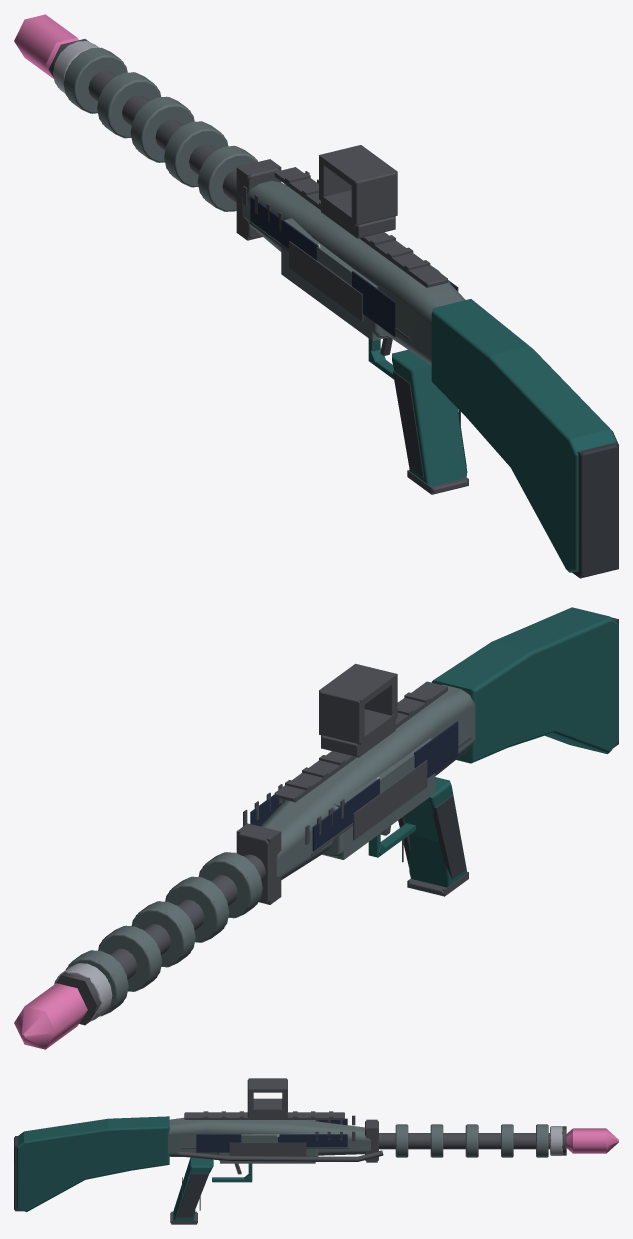
File: x_prism.glb
3 renders of one model, top to bottom at view 1: azimuth 30°, elevation 25°; view 2: azimuth 150°, elevation 25°; view 3: azimuth 270°, elevation 25°, orthographic. The views are drawn at different scales.
Parts seen in each view (by area): view 1: L0, L1; view 2: L0, L1; view 3: L0, L1.
Part boxes in pixels (x1,y1,x2,y2): L0: (14,14,618,577); L1: (57,41,618,578); L0: (14,607,618,1049); L1: (57,618,618,1017); L0: (14,1079,618,1223); L1: (15,1078,561,1224).
Bounding box in the file's own units: 0.0699 × 0.2349 × 0.9478.
